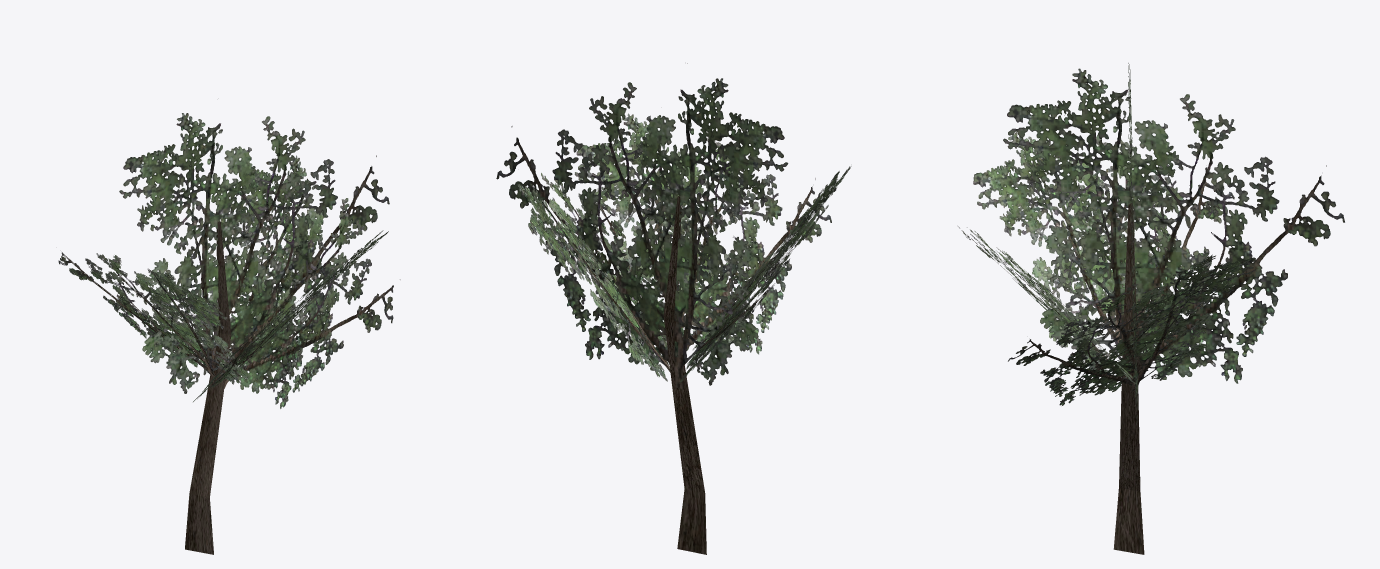
The model's file is mtns_shrb_greenleaf_l1.fbx.
The picture shows the model from 3 angles, left to right: view 1: azimuth 30°, elevation 25°; view 2: azimuth 150°, elevation 25°; view 3: azimuth 270°, elevation 25°; orthographic projection. The views are drawn at different scales.
Parts seen in each view (by area): view 1: mesh_node; view 2: mesh_node; view 3: mesh_node.
Part boxes in pixels (x1,y1,x2,y2): mesh_node: [58, 113, 400, 554]; mesh_node: [496, 63, 851, 554]; mesh_node: [958, 63, 1344, 554].
Size of the model in its own units: 1.6 by 1.95 by 1.69.
